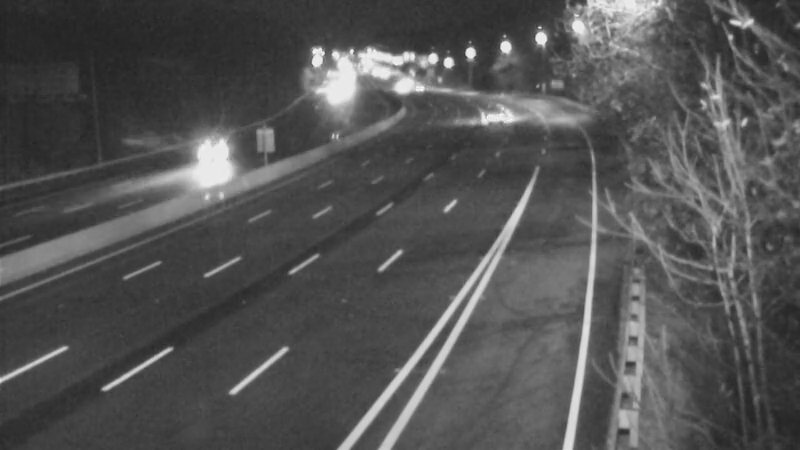vehicle: (169, 117, 249, 197), (381, 56, 431, 106), (400, 62, 450, 112), (382, 63, 432, 113), (465, 89, 515, 139)
